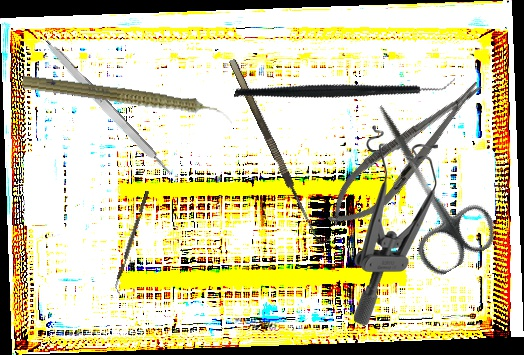Chopper: (233, 8, 457, 164), (110, 190, 155, 295)
Handpiece: (20, 71, 235, 127)
Hook Surgical: (228, 53, 332, 248)
Iris Scissors: (342, 86, 505, 281)
Needle Holder: (315, 66, 497, 242)
Scalpel Handle: (39, 36, 176, 182)
Speculum: (354, 123, 438, 327)
